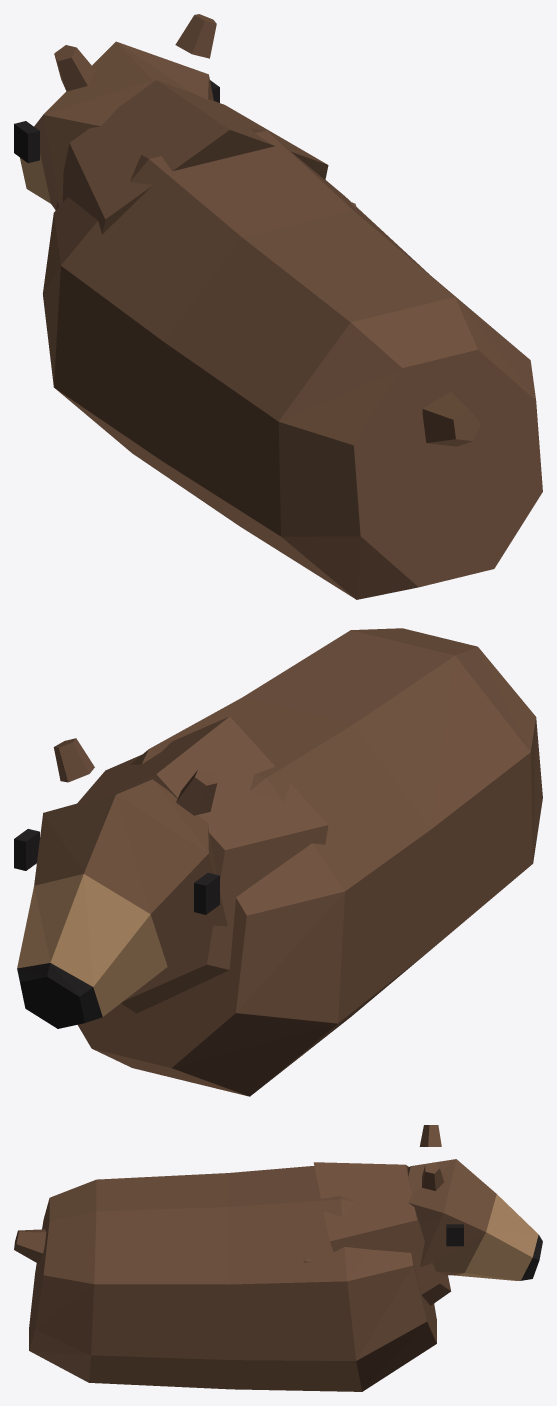
The model's file is animal_bear_grizzly.obj.
The picture shows the model from 3 angles, top to bottom: view 1: azimuth 30°, elevation 25°; view 2: azimuth 150°, elevation 25°; view 3: azimuth 270°, elevation 25°; orthographic projection. The views are drawn at different scales.
Parts seen in each view (by area): view 1: animal_bear_grizzly; view 2: animal_bear_grizzly; view 3: animal_bear_grizzly.
Part boxes in pixels (x1=…): animal_bear_grizzly: x1=14, y1=14, x2=542, y2=599; animal_bear_grizzly: x1=14, y1=628, x2=542, y2=1096; animal_bear_grizzly: x1=14, y1=1125, x2=542, y2=1391.
Bounding box in the file's own units: 0.6486 × 0.8007 × 1.67.
